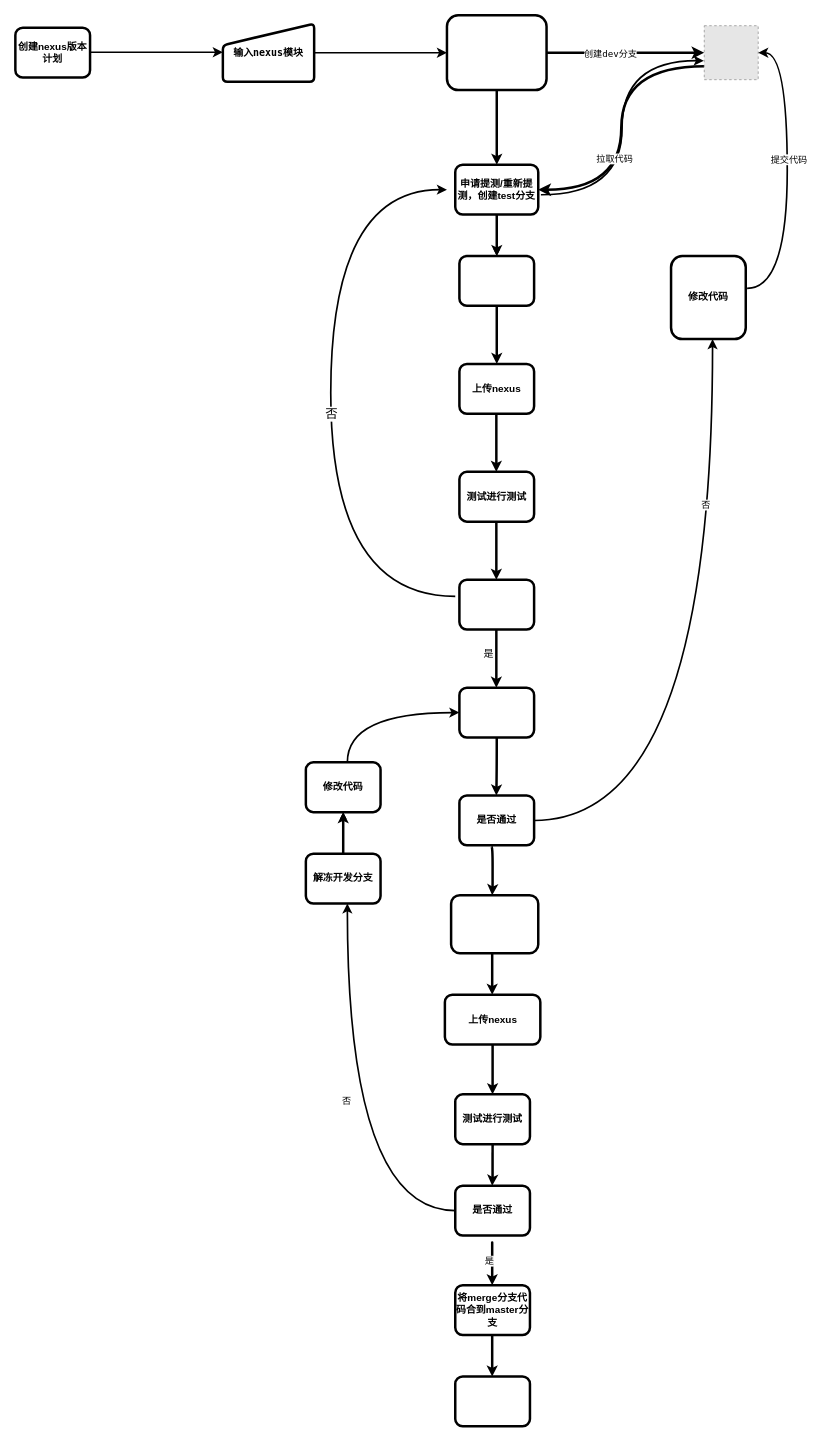
Image size: 821x1442. Some labels were removed from this diagram. Grey dashed boxes stand in for pictures. Each missing label, with the box of its shape:
修改版本号: (458, 254, 535, 307)
创建merge分支，冻结开发分支，并将开发分支代码合到merge分支: (449, 893, 539, 954)
创建版本计划: (445, 14, 547, 91)
测试是否通过: (458, 578, 535, 630)
版本计划结束: (454, 1375, 531, 1427)
申请评审: (458, 686, 535, 738)
